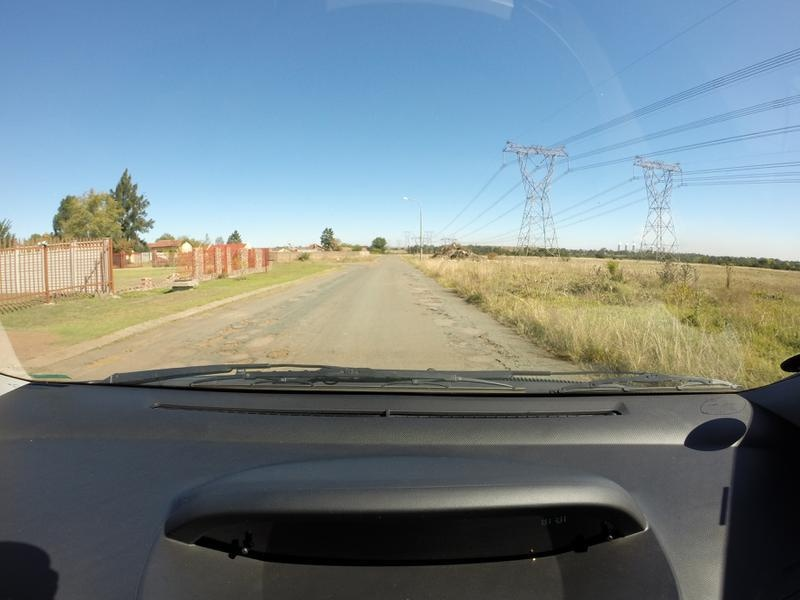pothole: (480, 332, 511, 358), (88, 349, 122, 366), (244, 333, 273, 347), (216, 320, 237, 334), (263, 350, 289, 358), (260, 315, 280, 325), (487, 362, 505, 370), (217, 348, 233, 356), (422, 305, 436, 313), (181, 344, 196, 351), (421, 297, 439, 301), (443, 331, 455, 336)
